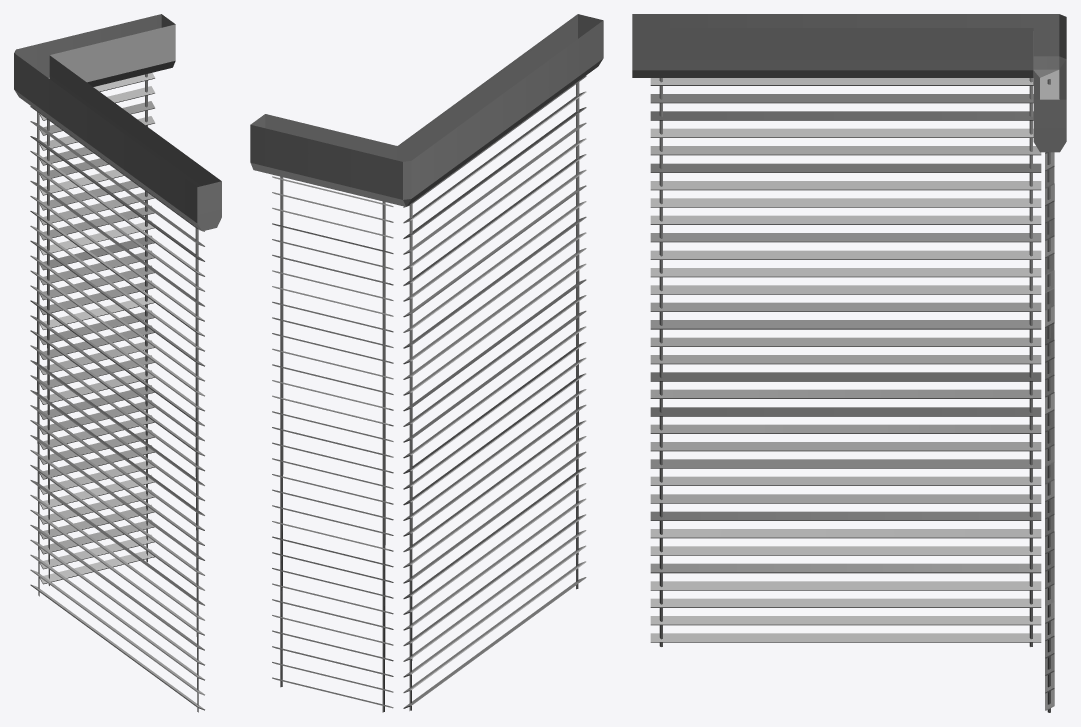
The model's file is m_thomas_store.fbx.
The picture shows the model from 3 angles, left to right: view 1: azimuth 30°, elevation 25°; view 2: azimuth 150°, elevation 25°; view 3: azimuth 270°, elevation 25°; orthographic projection. The views are drawn at different scales.
Visible parts, largest first — view 1: m_thomas_store; view 2: m_thomas_store; view 3: m_thomas_store.
Boxes of the visible parts, x1,y1,x2,y2 form: m_thomas_store: (14,14,221,712); m_thomas_store: (250,14,603,712); m_thomas_store: (632,14,1066,712).
Bounding box in the file's own units: 82.77 × 282 × 177.
